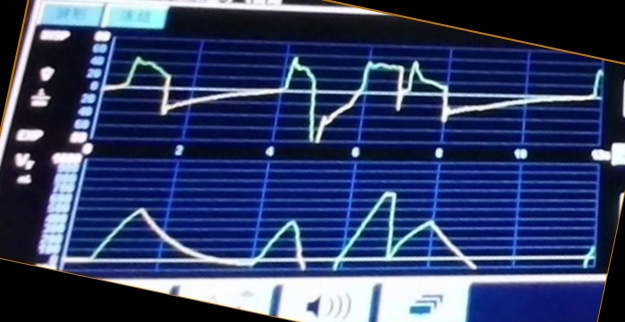Double_Triggering Flow: (114, 54, 521, 141)
Double_Triggering Volume: (84, 182, 520, 274)
